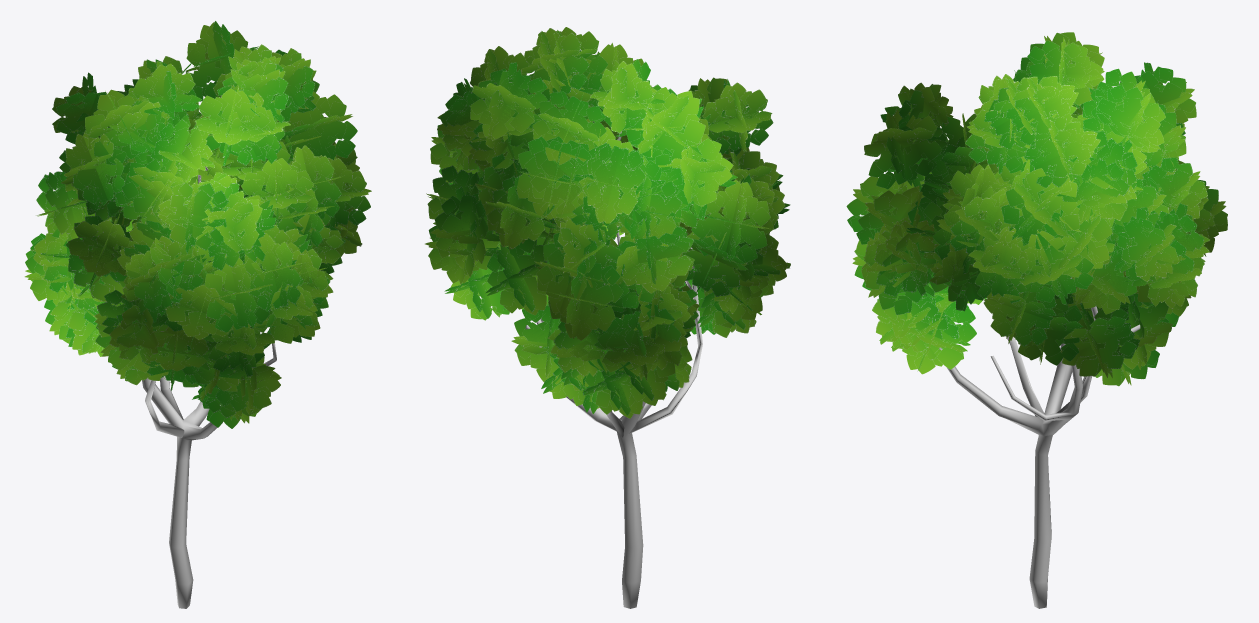
Rendered from TSP_Tree_01B.fbx.
3 renders of one model, left to right at view 1: azimuth 30°, elevation 25°; view 2: azimuth 150°, elevation 25°; view 3: azimuth 270°, elevation 25°, orthographic. The views are drawn at different scales.
Parts seen in each view (by area): view 1: TSP_Tree_01B; view 2: TSP_Tree_01B; view 3: TSP_Tree_01B.
Part boxes in pixels (x1,y1,x2,y2): TSP_Tree_01B: [24, 21, 371, 608]; TSP_Tree_01B: [425, 27, 790, 608]; TSP_Tree_01B: [846, 32, 1227, 608].
Size of the model in its own units: 4.92 by 8.05 by 5.17.
